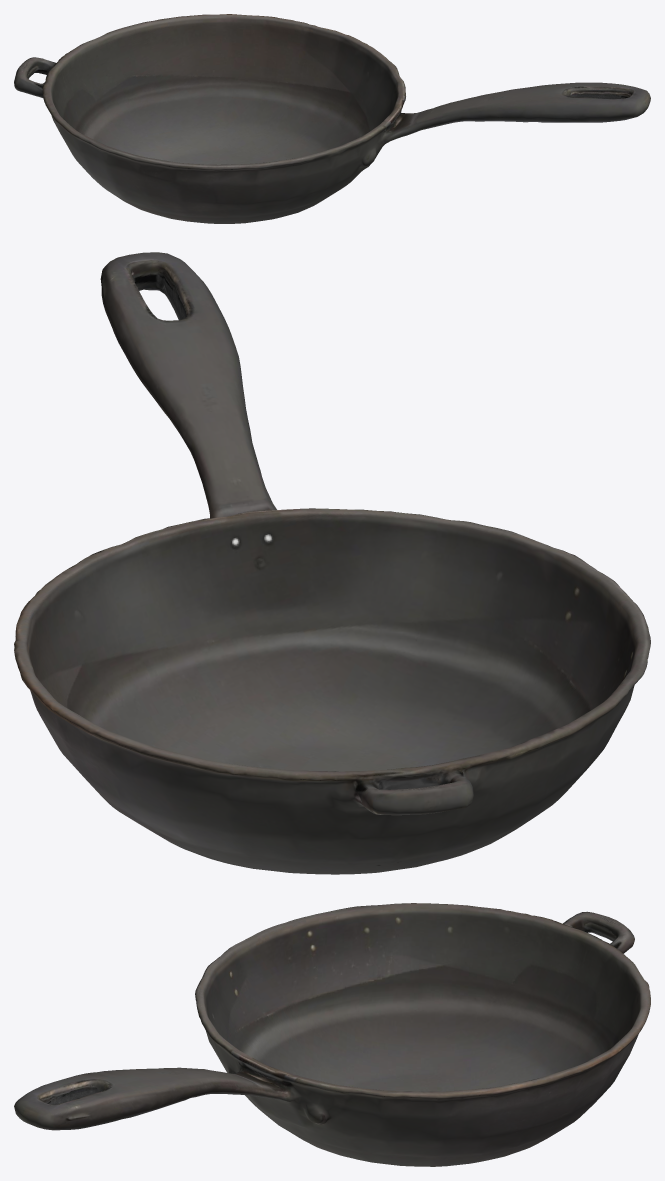
Rendered from pan.glb.
3 views of the same model, one above another, from view 1: azimuth 30°, elevation 25°; view 2: azimuth 150°, elevation 25°; view 3: azimuth 270°, elevation 25° (orthographic). The views are drawn at different scales.
Parts seen in each view (by area): view 1: Mesh1.0; view 2: Mesh1.0; view 3: Mesh1.0.
Part boxes in pixels (left/top/right/bottom): Mesh1.0: left=14, top=14, right=650, bottom=223; Mesh1.0: left=14, top=252, right=650, bottom=874; Mesh1.0: left=14, top=903, right=650, bottom=1166.
Size of the model in its own units: 0.25 by 0.0793 by 0.2522.
1 material, 1 textured.
